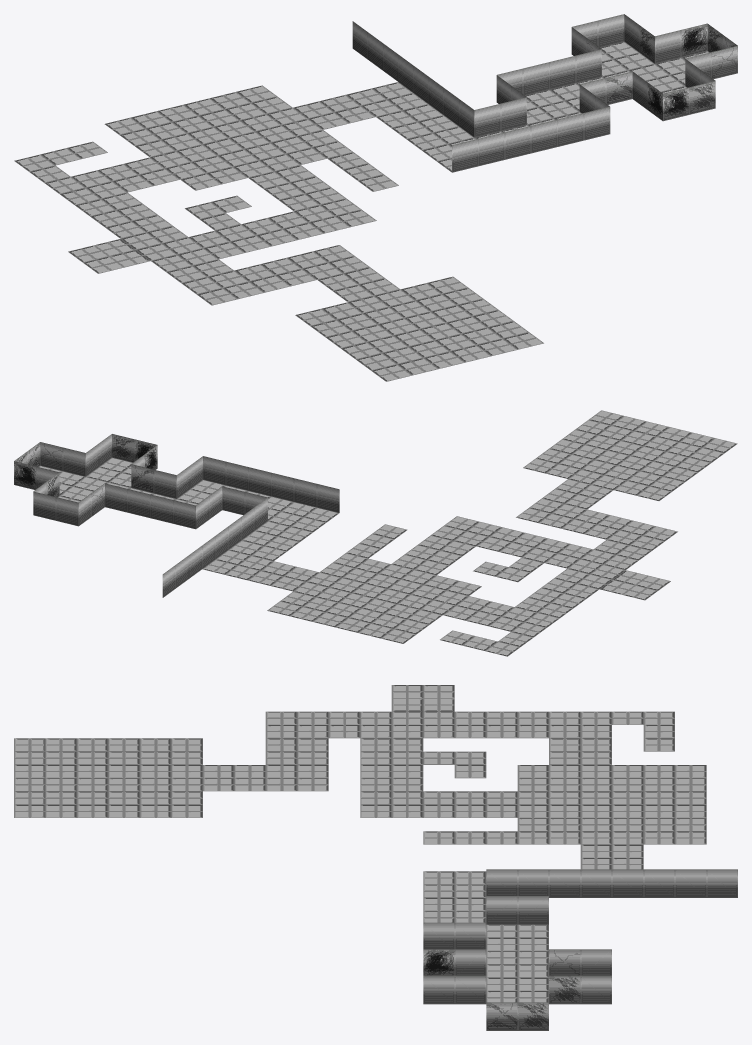
3 views of the same model, one above another, from view 1: azimuth 30°, elevation 25°; view 2: azimuth 150°, elevation 25°; view 3: azimuth 270°, elevation 25° (orthographic). The views are drawn at different scales.
Visible parts, largest first — view 1: Quad_196, Quad_208, Quad_195, Quad_197, Quad_199, Quad_200, Quad_203, Quad_231, Quad_193, Quad_194, Quad_207, Quad_198 (+6 smaller); view 2: Quad_208, Quad_195, Quad_209, Quad_197, Quad_201, Quad_205, Quad_207, Quad_192, Quad_193, Quad_194, Quad_196, Quad_206 (+7 smaller); view 3: Quad_217, Quad_218, Quad_219, Quad_220, Quad_213, Quad_214, Quad_215, Quad_216, Quad_225, Quad_226, Quad_227, Quad_228 (+10 smaller).
Part boxes in pixels (x1,y1,x2,y2): Quad_196: [504, 126, 531, 159]; Quad_208: [549, 55, 575, 89]; Quad_195: [531, 119, 557, 153]; Quad_197: [478, 132, 504, 166]; Quad_199: [689, 81, 715, 114]; Quad_200: [663, 87, 689, 121]; Quad_203: [681, 23, 707, 57]; Quad_231: [474, 103, 500, 137]; Quad_193: [584, 106, 610, 140]; Quad_194: [557, 113, 583, 146]; Quad_207: [575, 49, 601, 82]; Quad_198: [452, 139, 478, 172]; Quad_208: [127, 489, 150, 518]; Quad_195: [248, 467, 271, 496]; Quad_209: [150, 494, 173, 523]; Quad_197: [294, 478, 316, 507]; Quad_201: [63, 447, 85, 476]; Quad_205: [33, 491, 55, 520]; Quad_207: [105, 483, 127, 512]; Quad_192: [154, 469, 176, 498]; Quad_193: [203, 456, 225, 485]; Quad_194: [226, 461, 248, 490]; Quad_196: [271, 472, 293, 501]; Quad_206: [56, 497, 78, 526]; Quad_217: [454, 975, 486, 1004]; Quad_218: [423, 975, 454, 1004]; Quad_219: [549, 975, 580, 1004]; Quad_220: [580, 975, 611, 1004]; Quad_213: [517, 896, 548, 924]; Quad_214: [486, 896, 517, 924]; Quad_215: [517, 1002, 548, 1030]; Quad_216: [486, 1002, 517, 1030]; Quad_225: [549, 869, 580, 897]; Quad_226: [580, 869, 611, 897]; Quad_227: [612, 869, 643, 897]; Quad_228: [643, 869, 674, 897].
Bounding box in the file's own units: 5200 × 200 × 4600.
6 materials, 6 textured.
